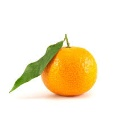orange: (38, 38, 101, 100)
